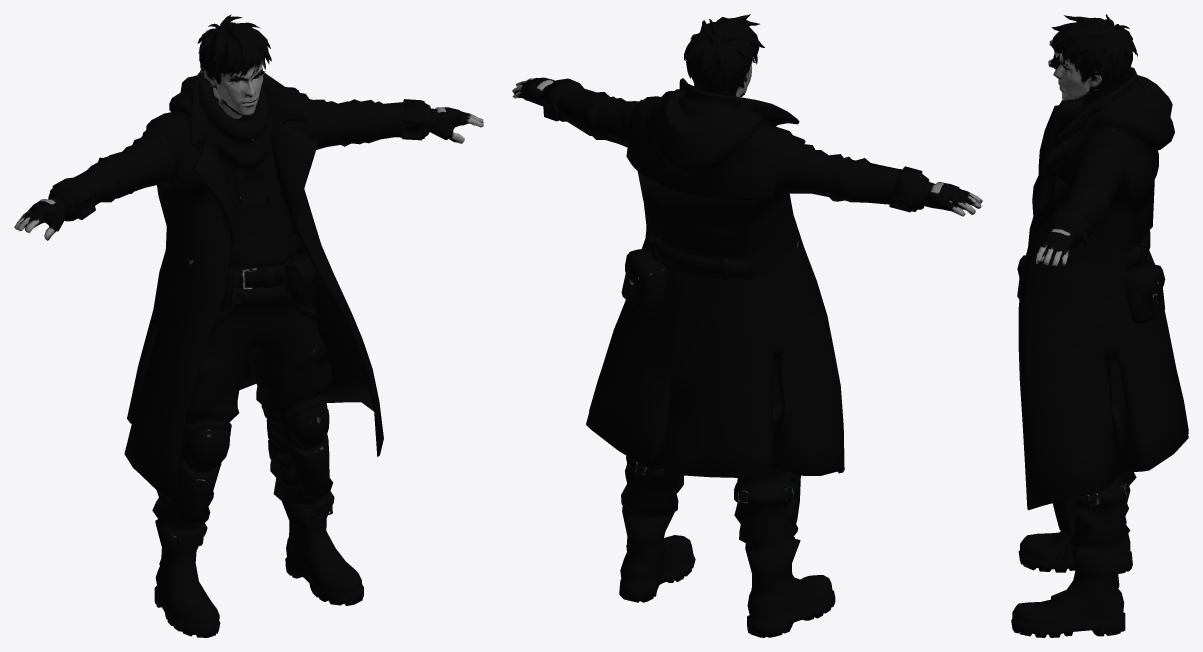
File: novotny-male-tripo.glb
3 views of the same model, side by side, from view 1: azimuth 30°, elevation 25°; view 2: azimuth 150°, elevation 25°; view 3: azimuth 270°, elevation 25° (orthographic). The views are drawn at different scales.
Parts seen in each view (by area): view 1: tripo_part_2, tripo_part_0, tripo_part_4, tripo_part_3, tripo_part_1, tripo_part_7, tripo_part_6; view 2: tripo_part_2, tripo_part_0, tripo_part_1, tripo_part_3, tripo_part_8, tripo_part_6; view 3: tripo_part_2, tripo_part_0, tripo_part_1, tripo_part_3, tripo_part_8, tripo_part_4.
Part boxes in pixels (box(x1,y1,x2,y2)): tripo_part_2: box(48, 72, 383, 502); tripo_part_0: box(152, 250, 363, 637); tripo_part_4: box(199, 71, 305, 269); tripo_part_3: box(299, 92, 483, 149); tripo_part_1: box(197, 14, 271, 118); tripo_part_7: box(285, 254, 319, 305); tripo_part_6: box(14, 197, 67, 240); tripo_part_2: box(586, 78, 929, 478); tripo_part_0: box(619, 456, 835, 637); tripo_part_1: box(684, 14, 764, 96); tripo_part_3: box(512, 77, 642, 147); tripo_part_8: box(621, 249, 667, 313); tripo_part_6: box(922, 182, 982, 216); tripo_part_2: box(1018, 54, 1188, 510); tripo_part_0: box(1011, 472, 1136, 637); tripo_part_1: box(1051, 14, 1137, 104); tripo_part_3: box(1036, 140, 1126, 267); tripo_part_8: box(1123, 263, 1165, 323); tripo_part_4: box(1051, 69, 1133, 148).
Bounding box in the file's own units: 0.8356 × 1 × 0.2798.
Materials: 1 (1 with a texture image).
